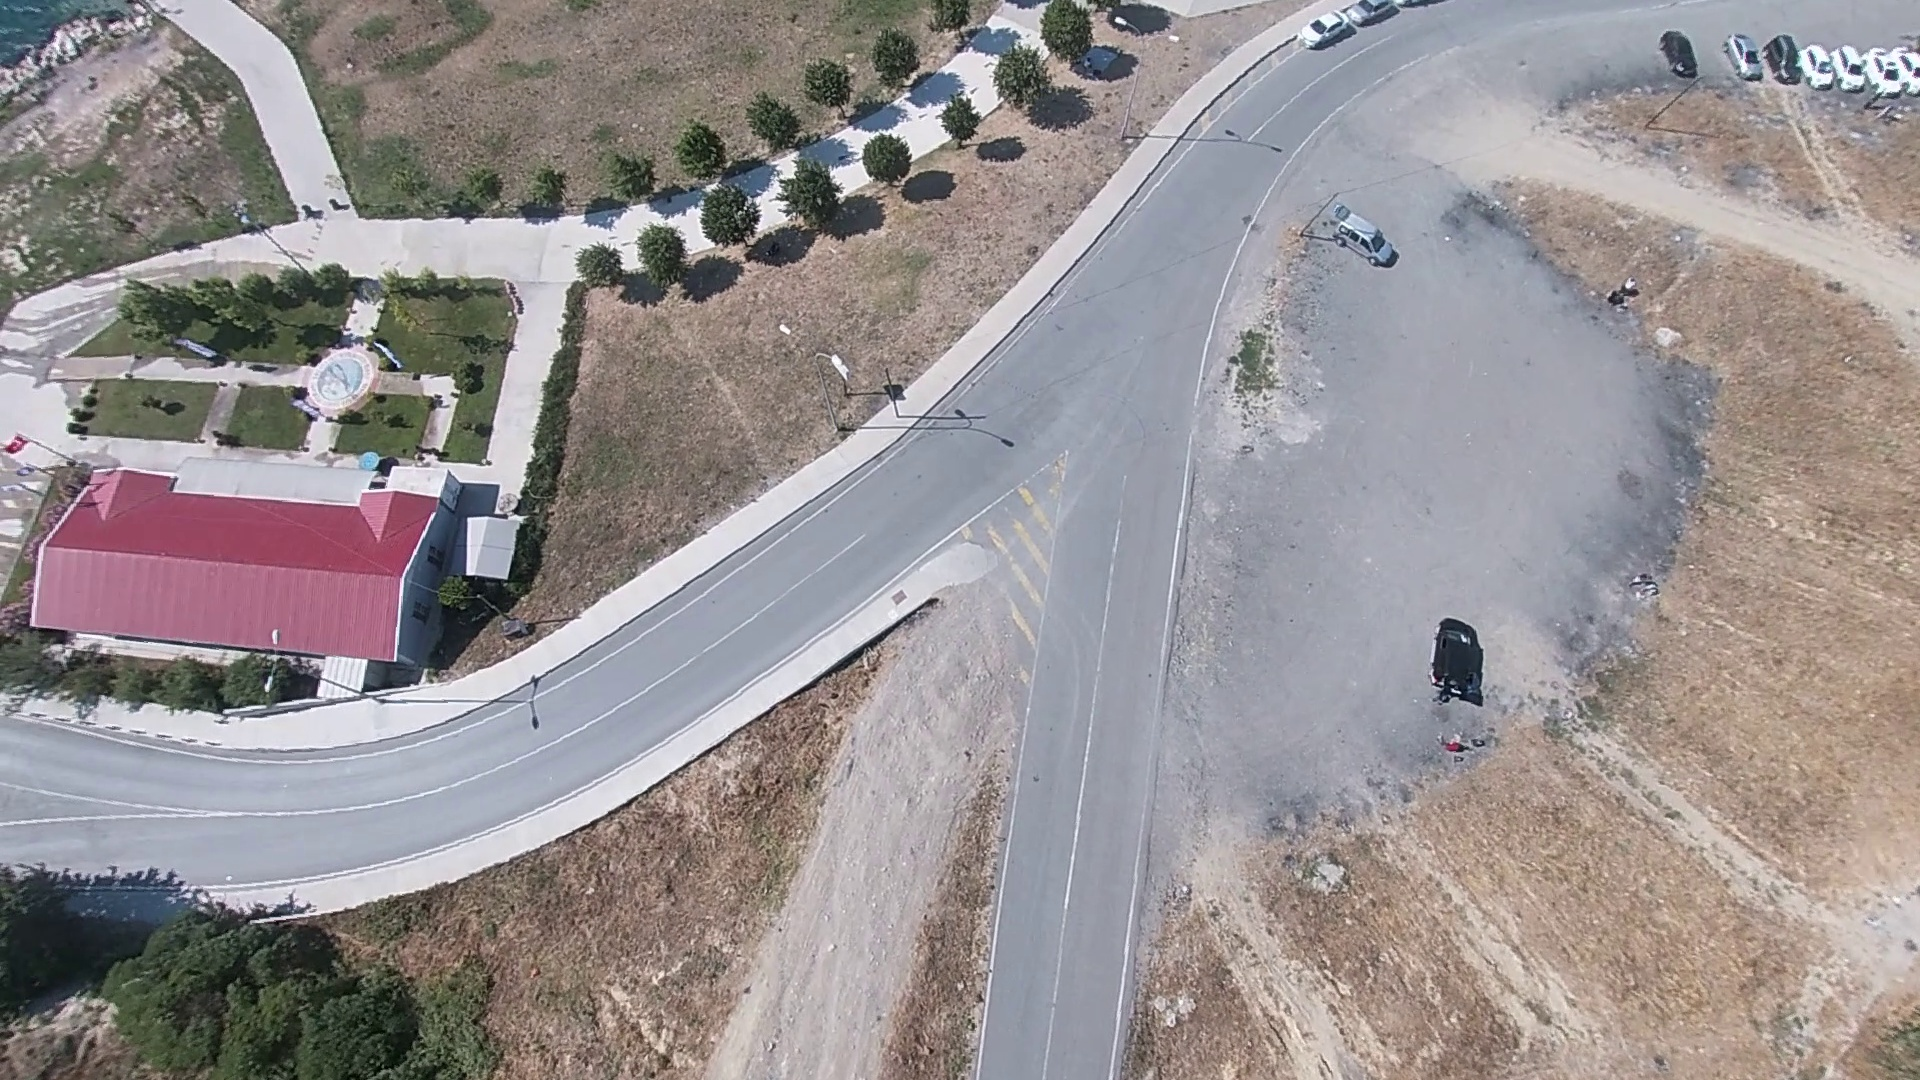araba: (1425, 615, 1488, 699), (1333, 205, 1403, 263), (1291, 1, 1353, 54), (1797, 40, 1841, 99), (1759, 33, 1800, 92), (1727, 32, 1769, 84), (1865, 39, 1898, 103), (1829, 37, 1865, 95), (1661, 30, 1702, 79), (1891, 46, 1920, 98)
insan: (1621, 275, 1642, 296)
